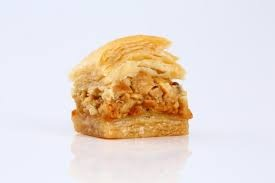baklava: (71, 35, 191, 138)
